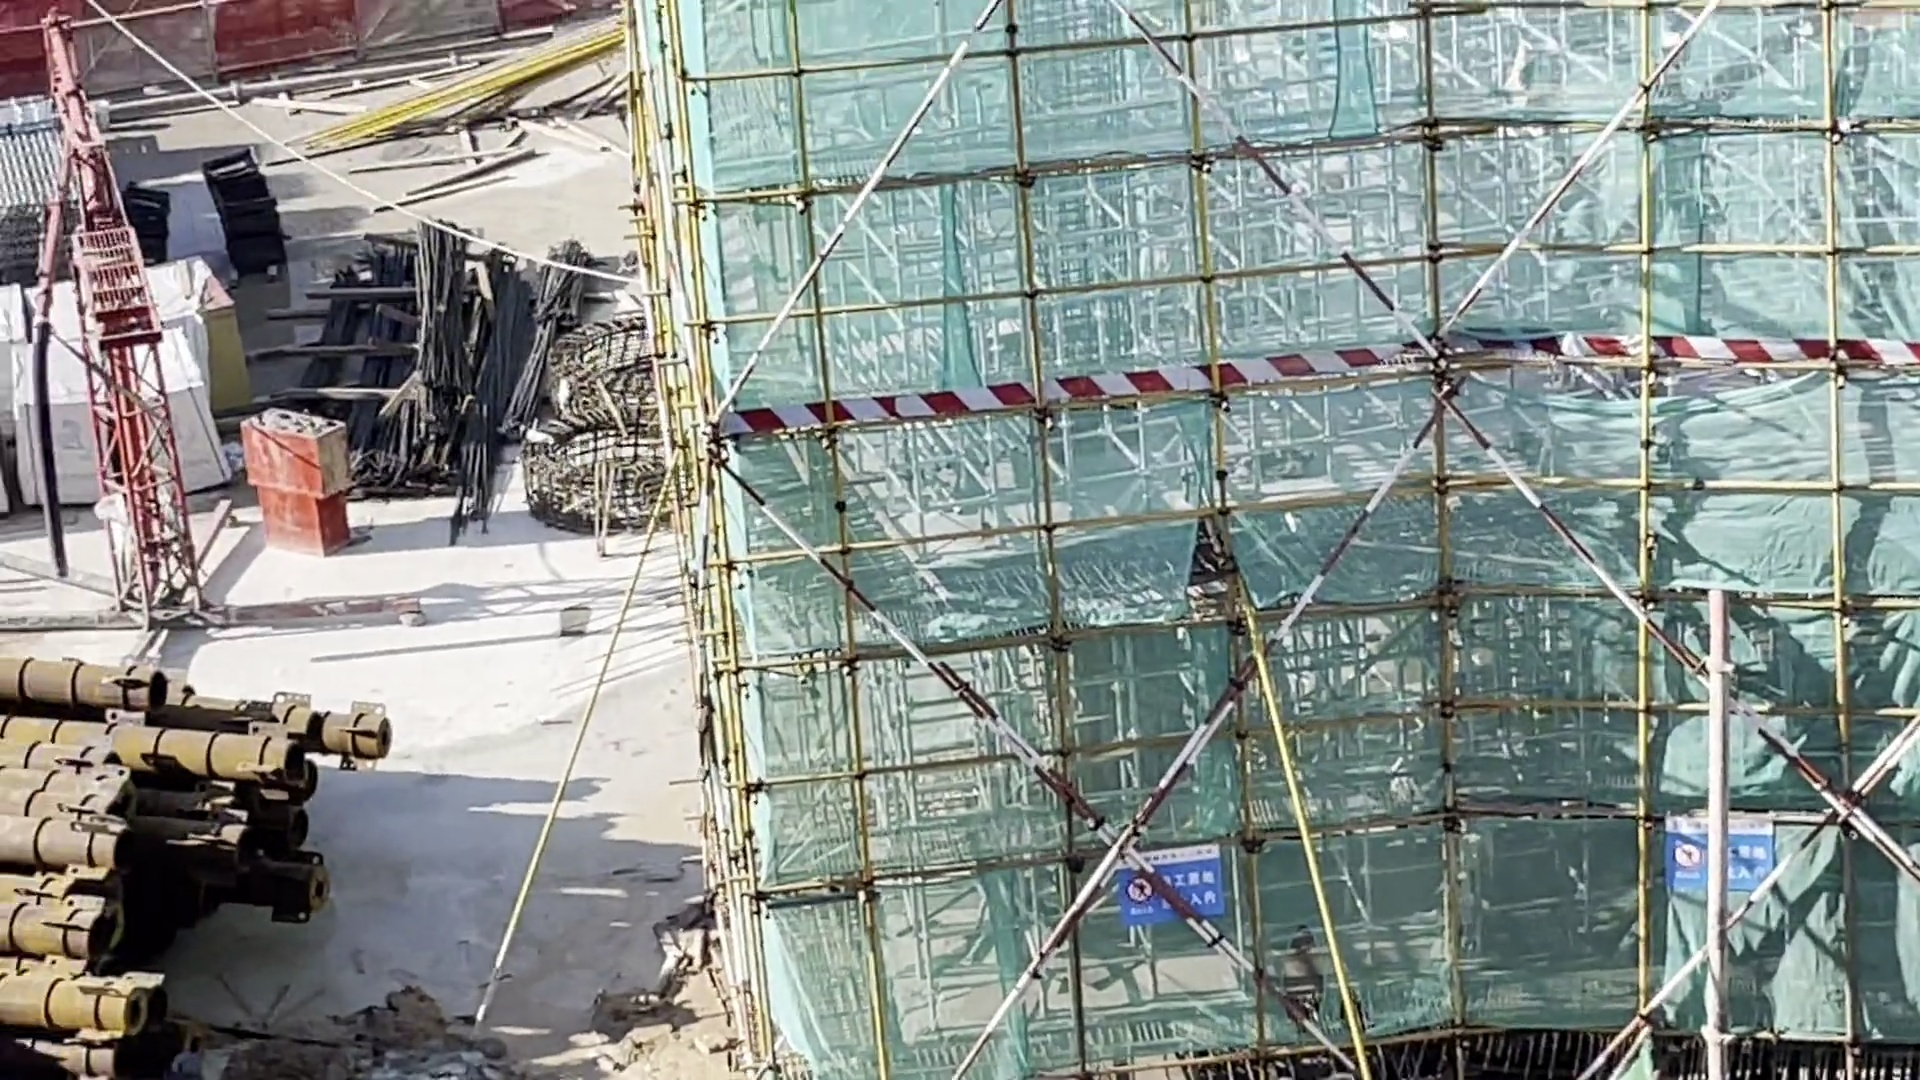slogan: (1085, 827, 1240, 940), (1650, 785, 1785, 909)
